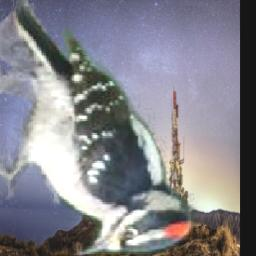Woodpecker: (0, 0, 198, 256)
